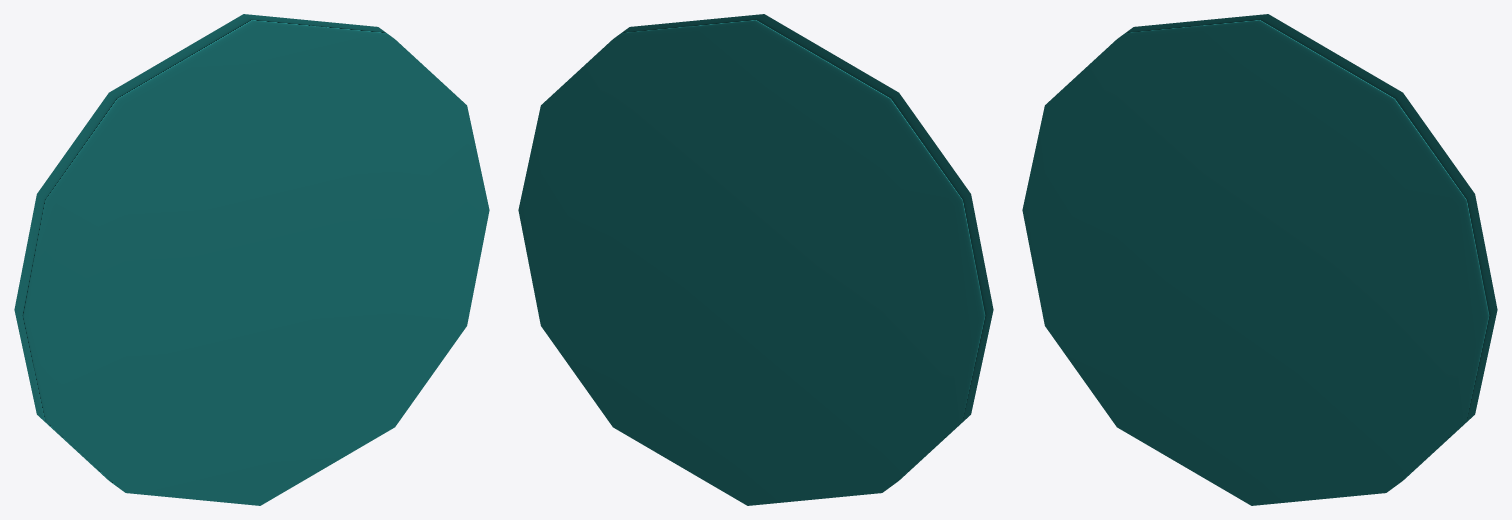
File: dart_board_collider.fbx
The picture shows the model from 3 angles, left to right: view 1: azimuth 30°, elevation 25°; view 2: azimuth 150°, elevation 25°; view 3: azimuth 330°, elevation 25°; orthographic projection.
Parts seen in each view (by area): view 1: dart_board_collider; view 2: dart_board_collider; view 3: dart_board_collider.
Boxes of the visible parts, x1,y1,x2,y2 form: dart_board_collider: (14, 14, 489, 505); dart_board_collider: (518, 14, 993, 505); dart_board_collider: (1022, 14, 1497, 505).
Size of the model in its own units: 39.51 by 39.51 by 2.5.
